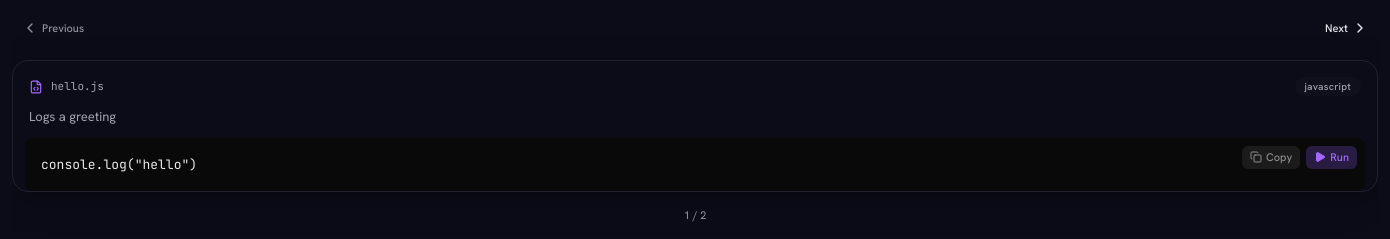
CodePlayground › should navigate between snippets
Expected: the text "Logs a greeting" is shown, [29,108,116,125]
Click the button "Next" at (1346, 28), box [1315,12,1378,44]
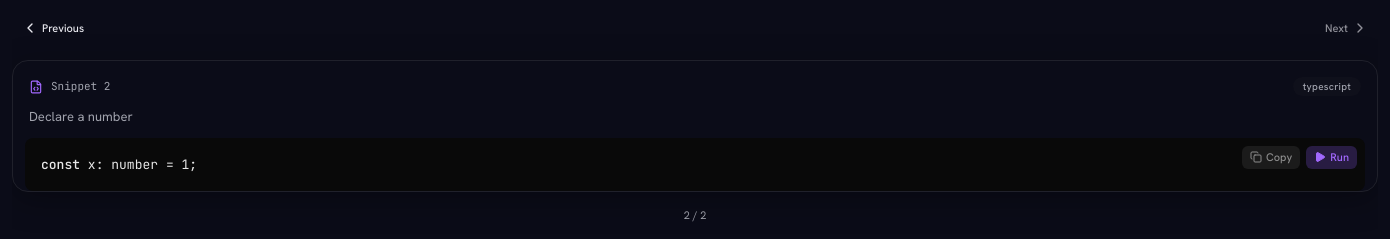
Expected: the text "Declare a number" is shown, [29,108,133,125]
